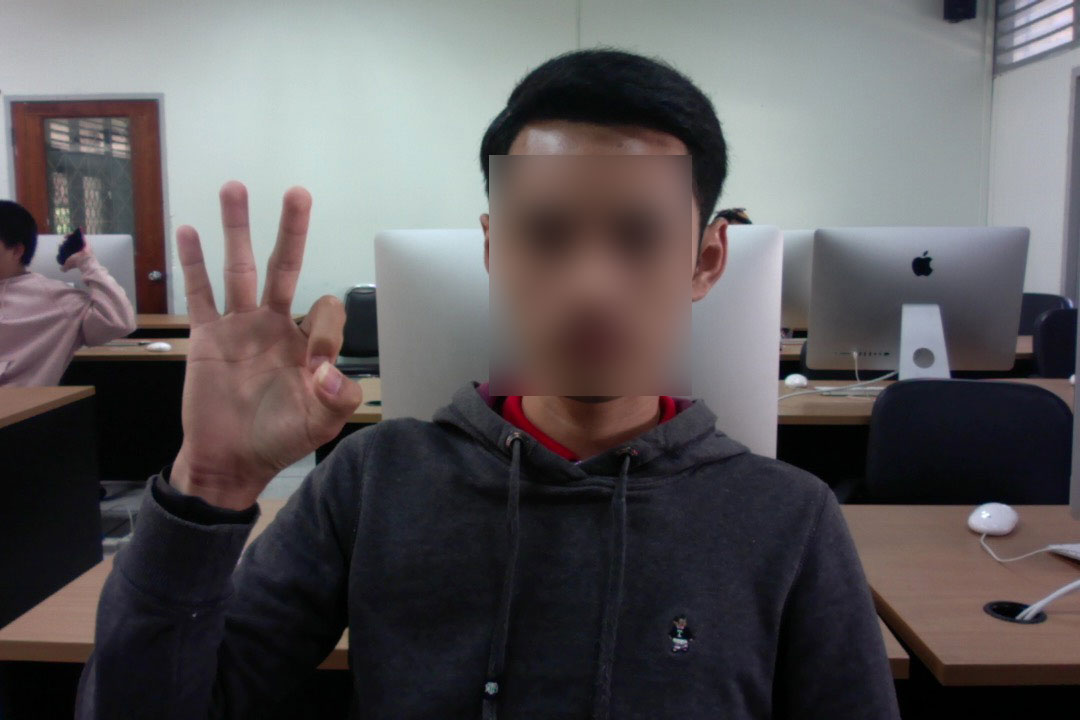for: (149, 156, 372, 517)
